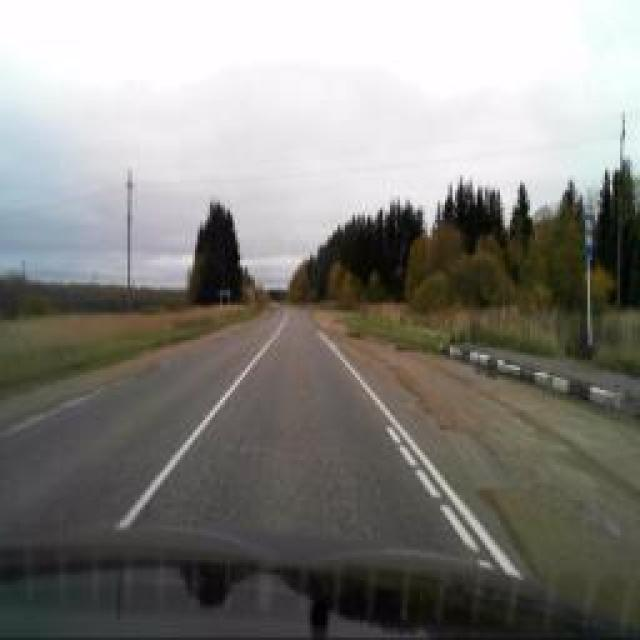sign: (585, 215, 595, 263)
